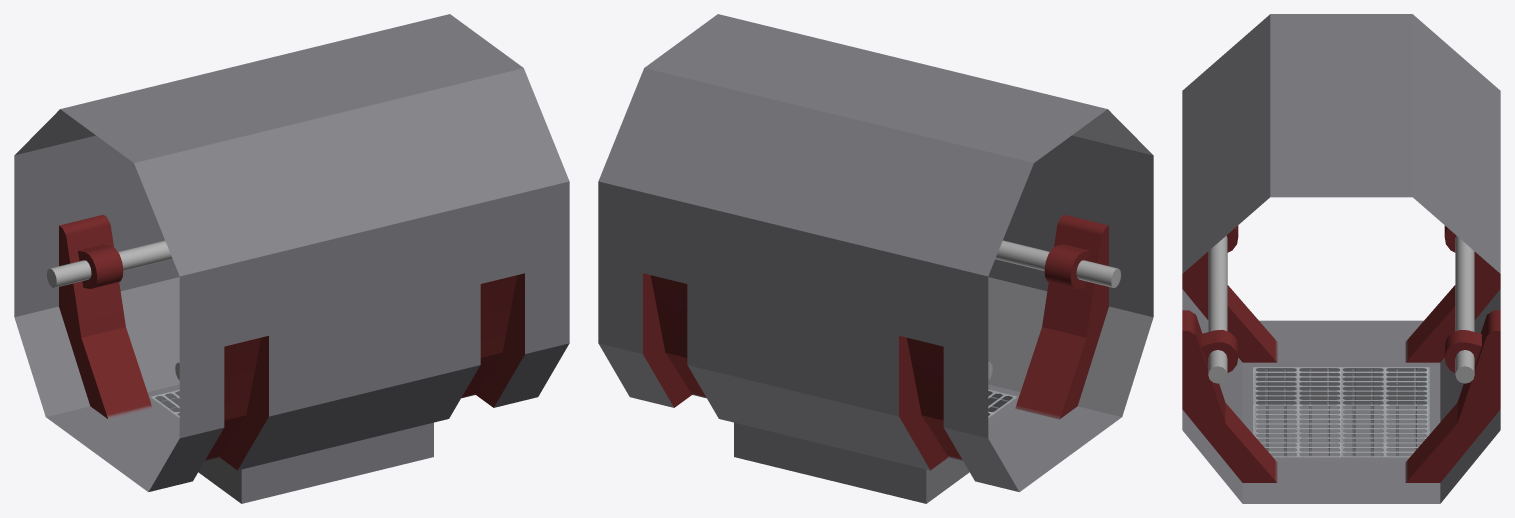
Rendered from Corridor.fbx.
3 renders of one model, left to right at view 1: azimuth 30°, elevation 25°; view 2: azimuth 150°, elevation 25°; view 3: azimuth 270°, elevation 25°, orthographic. The views are drawn at different scales.
Parts seen in each view (by area): view 1: Corridor:corridor; view 2: Corridor:corridor; view 3: Corridor:corridor, Corridor:grate.
Part boxes in pixels (x1,y1,x2,y2): Corridor:corridor: (14,14,569,503); Corridor:corridor: (598,14,1153,503); Corridor:corridor: (1182,14,1500,503); Corridor:grate: (1253,367,1429,457).
Bounding box in the file's own units: 350 × 308 × 257.
Materials: 2 (2 with a texture image).
